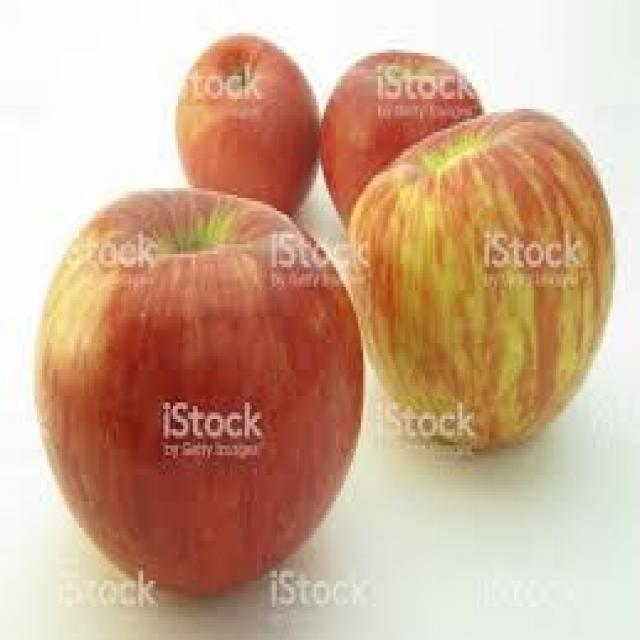Apple: (32, 172, 366, 608), (329, 106, 624, 454), (170, 33, 324, 206), (325, 37, 483, 113)
